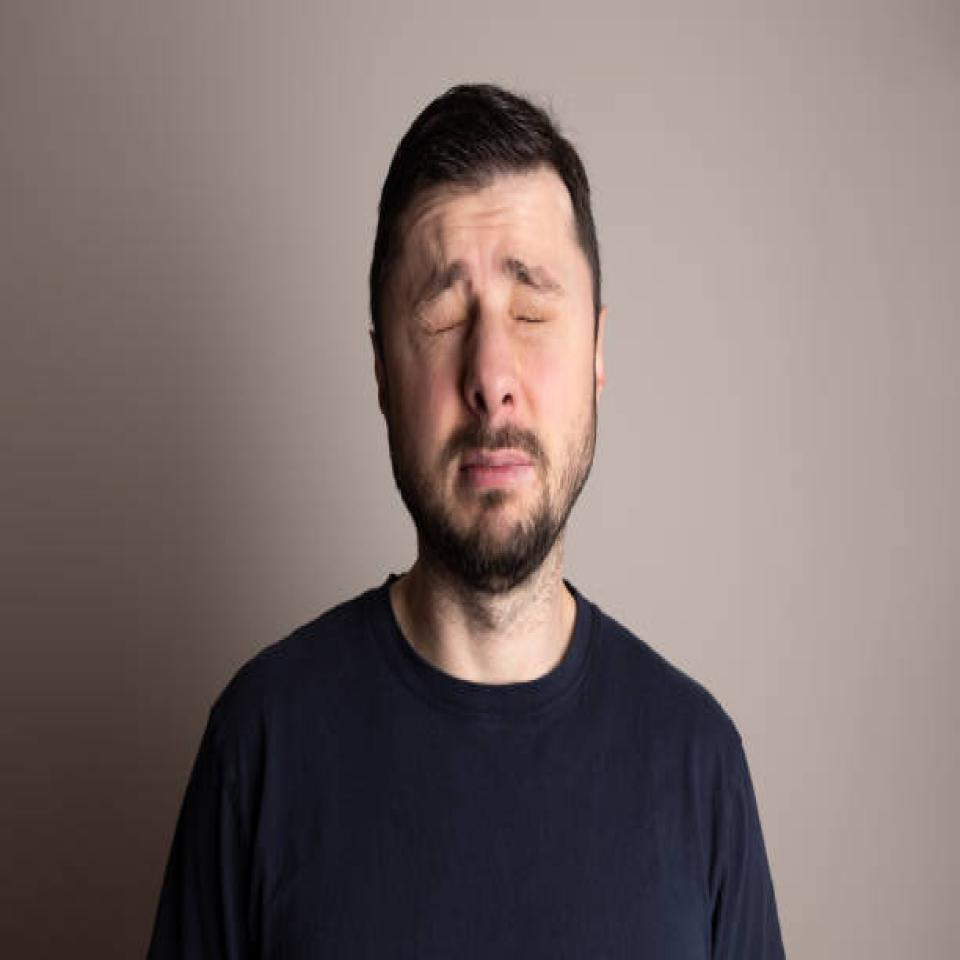Sadness: (381, 177, 597, 594)
